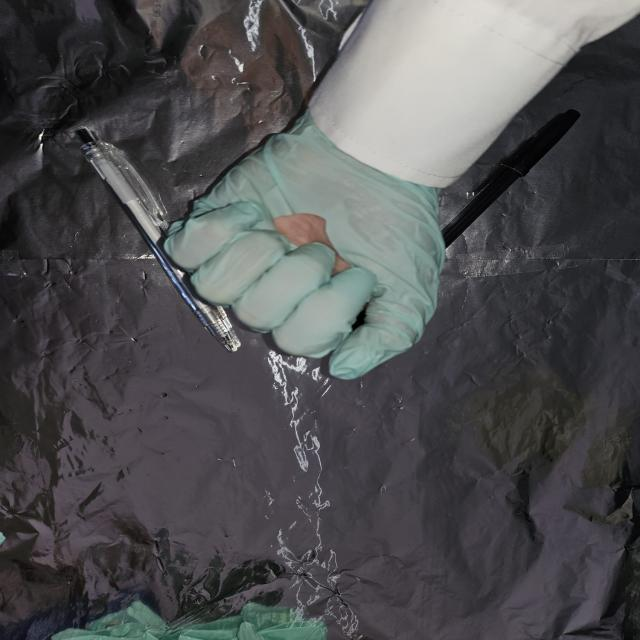gloves_damaged: (161, 113, 449, 380)
